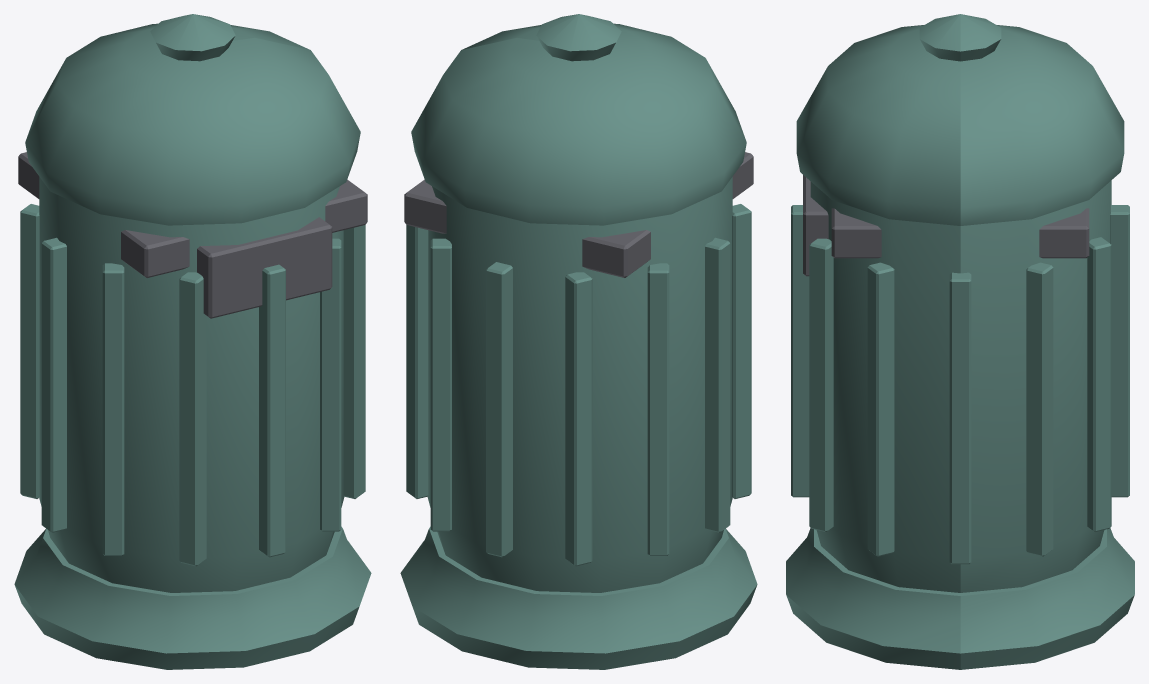
File: amusement-arcade-and-seaside-pier-promenade-litter-bin-64056e20__35423.glb
3 views of the same model, side by side, from view 1: azimuth 30°, elevation 25°; view 2: azimuth 150°, elevation 25°; view 3: azimuth 270°, elevation 25° (orthographic).
Parts seen in each view (by area): view 1: promenade-litter-bin, bin-lid; view 2: promenade-litter-bin, bin-lid; view 3: promenade-litter-bin, bin-lid.
Part boxes in pixels (box(x1,y1,x2,y2)): promenade-litter-bin: box(14, 152, 371, 669); bin-lid: box(25, 14, 360, 225); promenade-litter-bin: box(400, 152, 757, 669); bin-lid: box(411, 14, 746, 225); promenade-litter-bin: box(786, 175, 1134, 669); bin-lid: box(796, 14, 1124, 225).
Size of the model in its own units: 0.5 by 0.9 by 0.4875.
